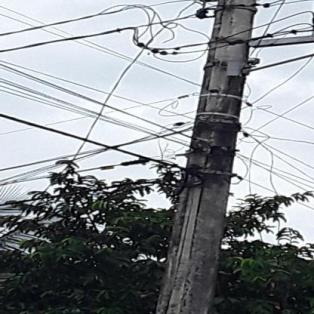Poste: (112, 0, 306, 314)
